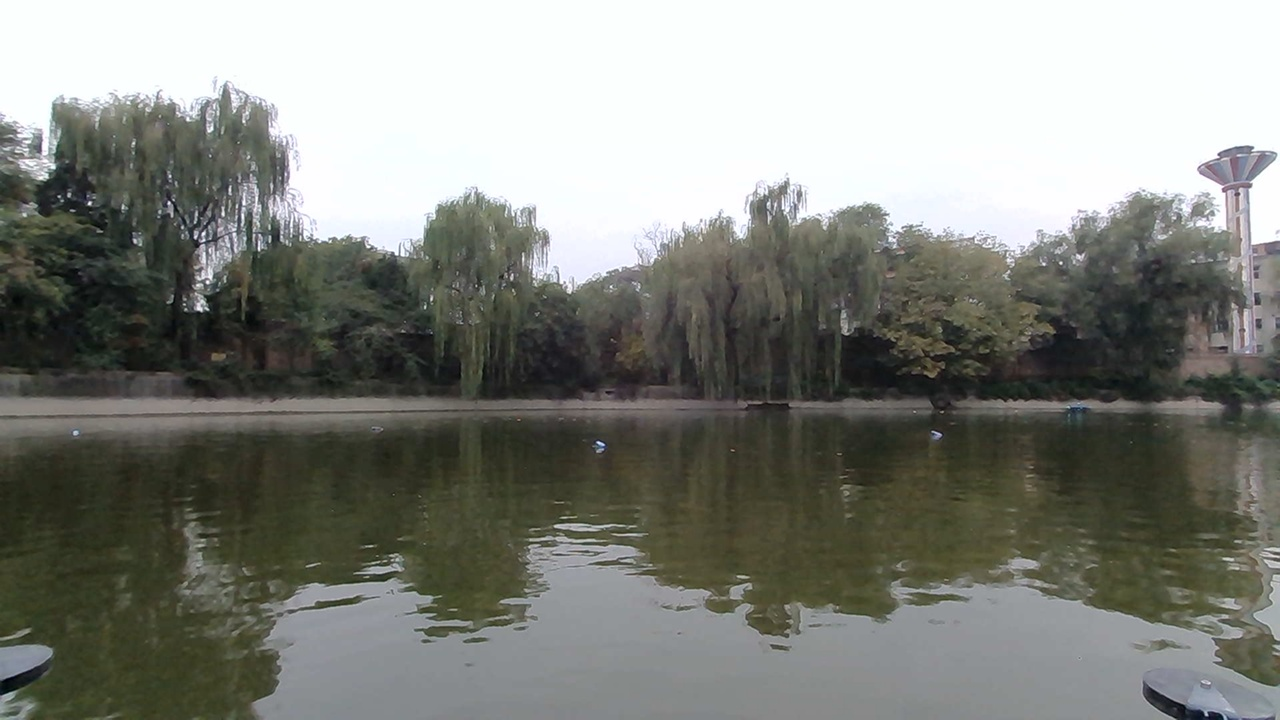bottle: (352, 414, 388, 445), (584, 431, 623, 459), (60, 421, 101, 444), (920, 424, 951, 445)
